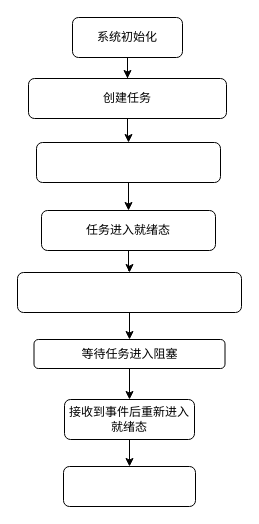
Some shapes in this 259 by 524 pixel diagram are drawn without their labels. Each missing label, with the centre of its shape:
"任务运行" belongs at pixel 129 292.
"启动调度器" belongs at pixel 128 162.
"循环调度" belongs at pixel 129 486.
